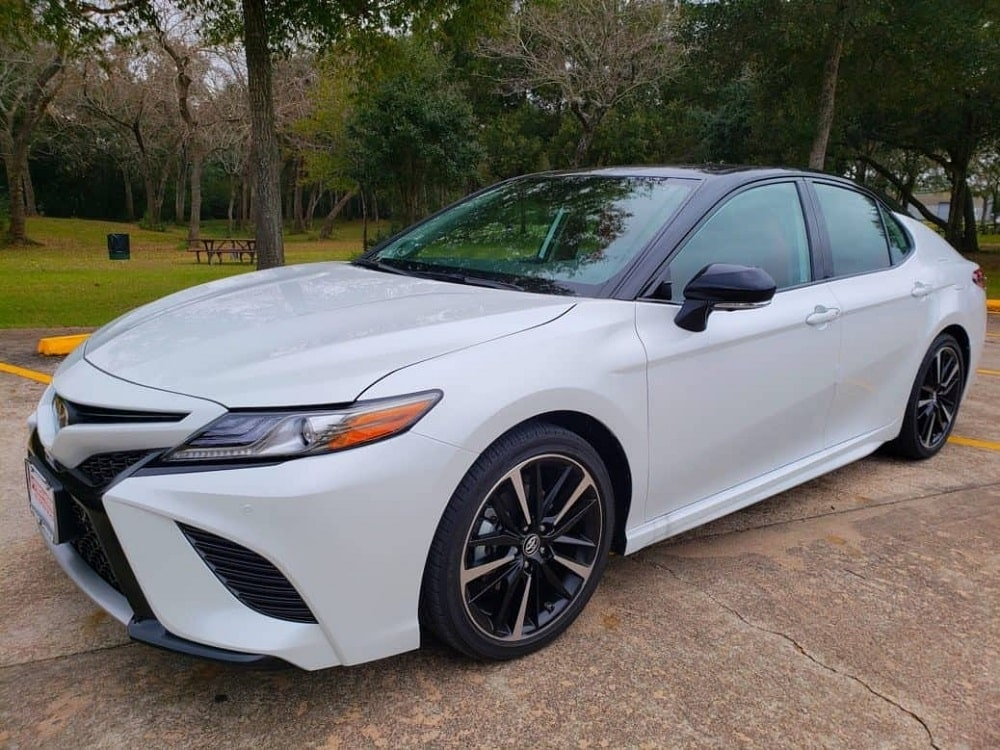car: (24, 163, 987, 672)
